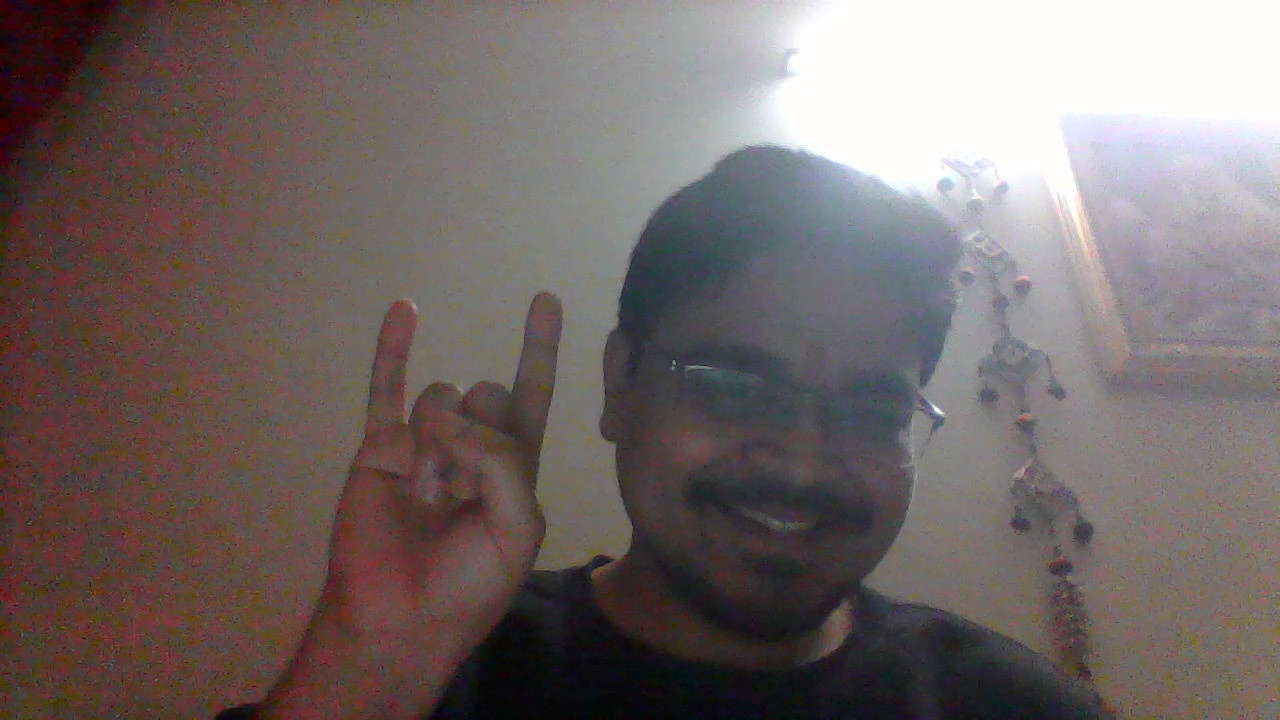ILoveYou: (322, 290, 568, 691)
